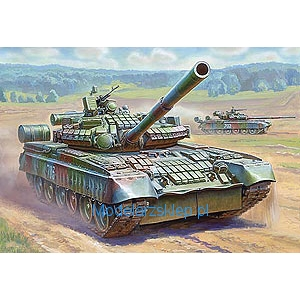Battle Tank: (18, 61, 282, 239), (191, 104, 295, 138)
